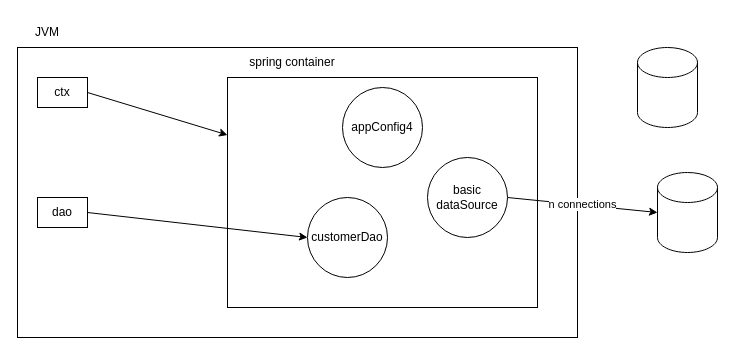
This 735x355 diagram has some shape labels left out. The shapes that lost their labels are listed below. From the top down, each one's box as (x1, y1, x2, y2) in pixels, then its label:
(636, 46, 698, 128): mysql
(656, 172, 718, 252): h2
